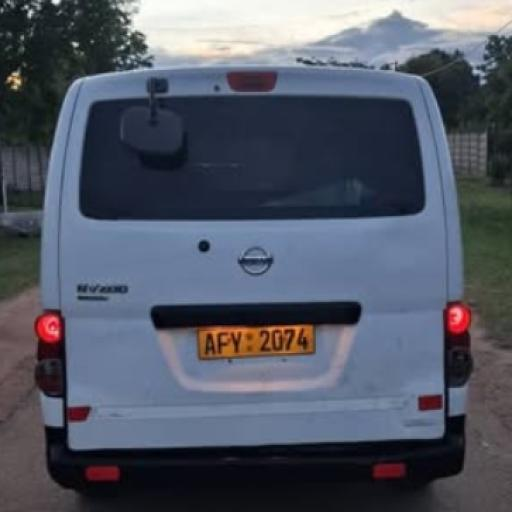number-plates: (198, 323, 317, 358)
